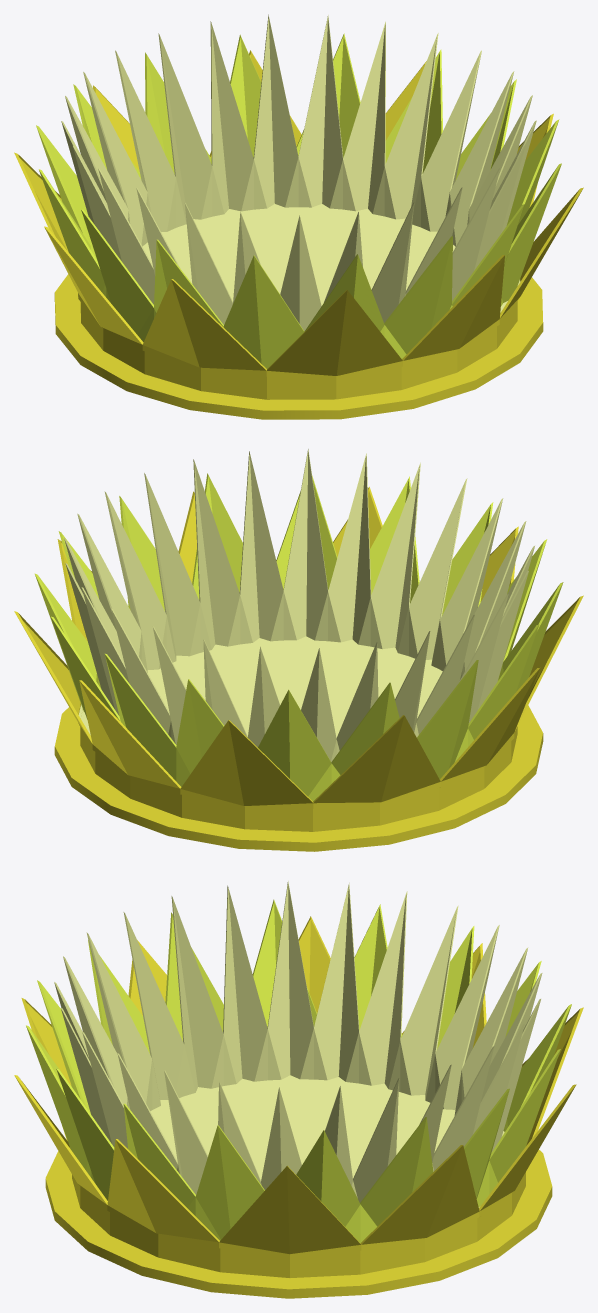
Rendered from portal_000042.obj.
The picture shows the model from 3 angles, top to bottom: view 1: azimuth 30°, elevation 25°; view 2: azimuth 150°, elevation 25°; view 3: azimuth 270°, elevation 25°; orthographic projection. The views are drawn at different scales.
Visible parts, largest first — view 1: Cylinder.001, pCylinder1, Cylinder; view 2: Cylinder.001, pCylinder1, Cylinder; view 3: Cylinder.001, pCylinder1, Cylinder.
Part boxes in pixels (box(x1,y1,x2,y2)): Cylinder.001: box(61, 14, 536, 330); pCylinder1: box(14, 50, 583, 419); Cylinder: box(36, 33, 561, 368); Cylinder.001: box(64, 449, 534, 762); pCylinder1: box(14, 486, 583, 851); Cylinder: box(34, 473, 563, 801); Cylinder.001: box(54, 881, 542, 1202); pCylinder1: box(14, 916, 583, 1298); Cylinder: box(26, 899, 571, 1242).
Bounding box in the file's own units: 7.44 × 2.9 × 7.17.
3 materials, 3 textured.
